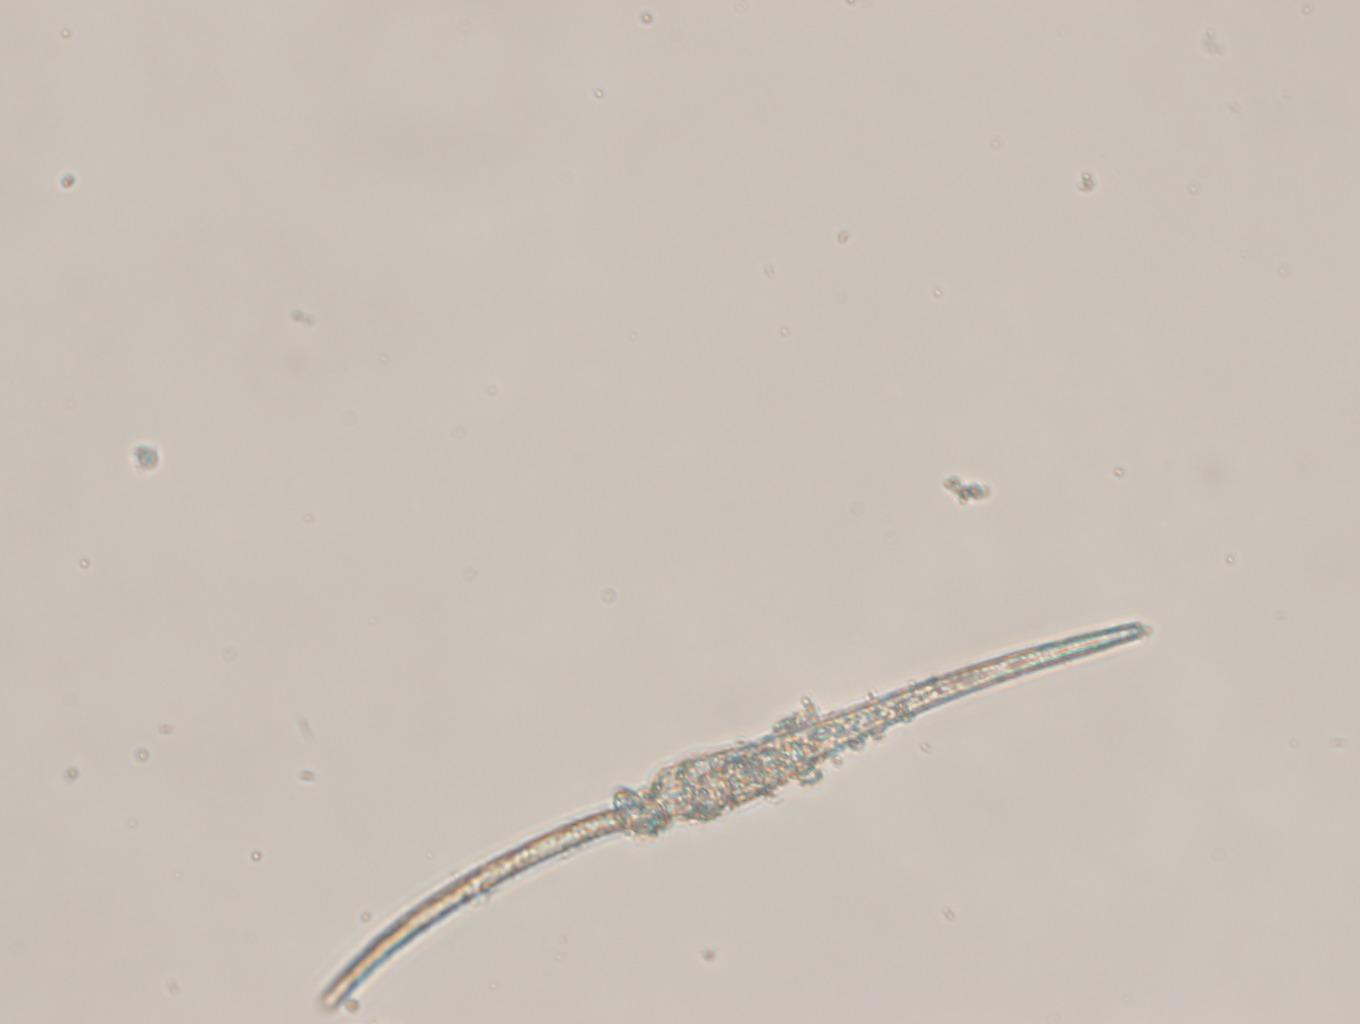ceratium fusus: (305, 611, 1158, 1015)
